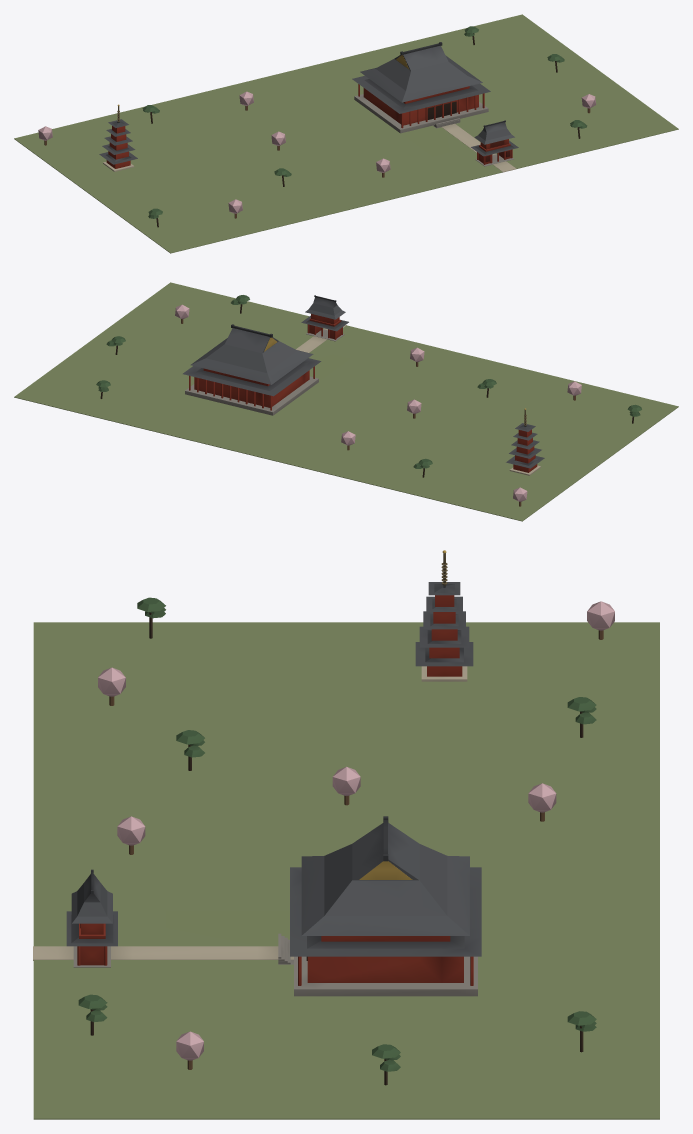
Rendered from kaneiji.glb.
The picture shows the model from 3 angles, top to bottom: view 1: azimuth 30°, elevation 25°; view 2: azimuth 150°, elevation 25°; view 3: azimuth 270°, elevation 25°; orthographic projection. The views are drawn at different scales.
Parts seen in each view (by area): view 1: p0_ground, p1_Konpon Chudo, p2_pagoda; view 2: p0_ground, p1_Konpon Chudo, p2_pagoda; view 3: p0_ground, p1_Konpon Chudo, p2_pagoda.
Part boxes in pixels (box(x1,y1,x2,y2)): p0_ground: box(14, 14, 678, 253); p1_Konpon Chudo: box(352, 42, 518, 166); p2_pagoda: box(38, 26, 596, 227); p0_ground: box(14, 282, 678, 521); p1_Konpon Chudo: box(183, 295, 348, 415); p2_pagoda: box(96, 295, 641, 506); p0_ground: box(33, 622, 659, 1119); p1_Konpon Chudo: box(66, 816, 481, 996); p2_pagoda: box(78, 550, 614, 1085).
Size of the model in its own units: 300 by 34.7 by 160.
